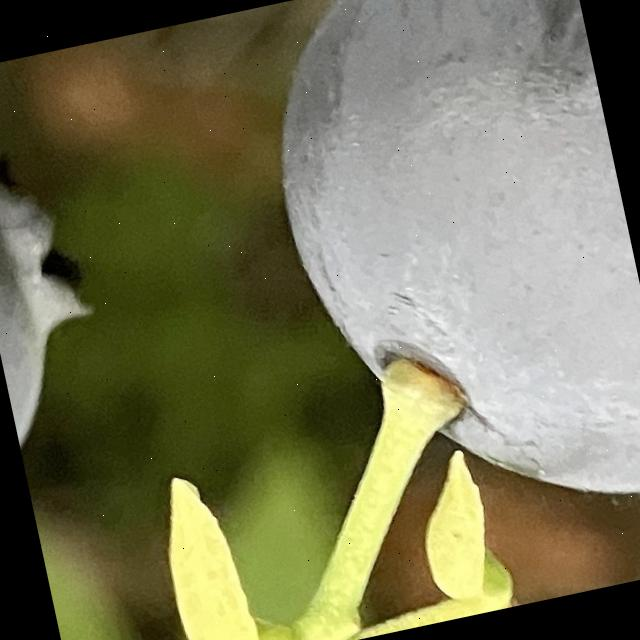Blueberries: (215, 0, 640, 581)
